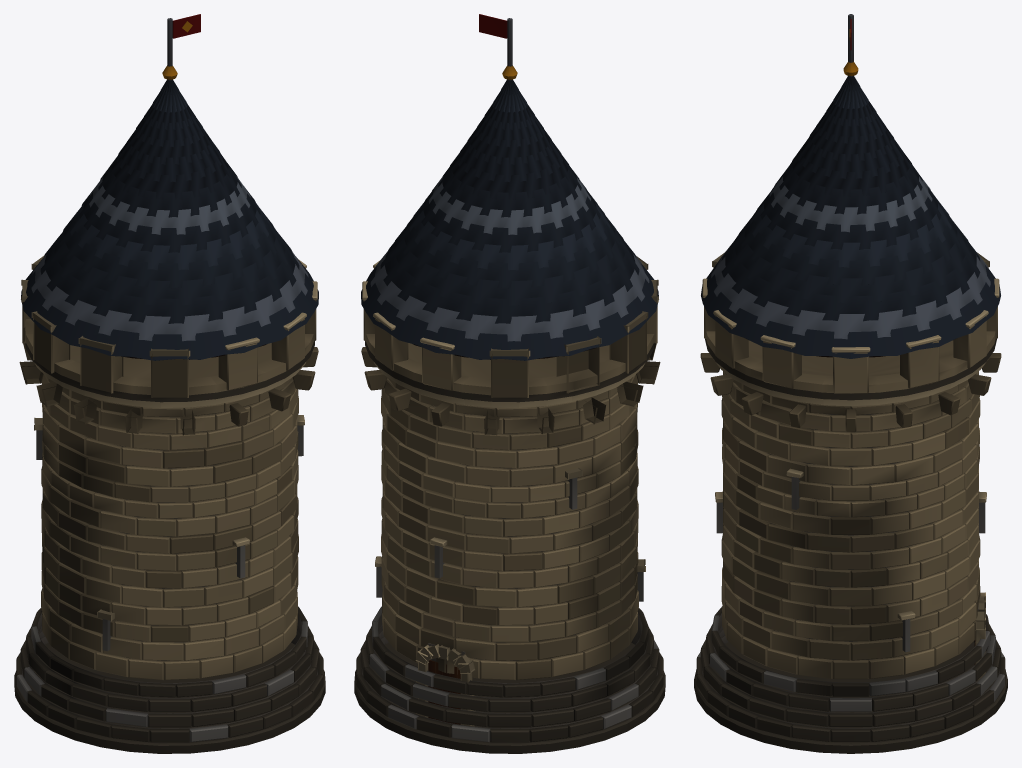
File: Torre4.fbx
The picture shows the model from 3 angles, left to right: view 1: azimuth 30°, elevation 25°; view 2: azimuth 150°, elevation 25°; view 3: azimuth 270°, elevation 25°; orthographic projection.
Parts seen in each view (by area): view 1: Torre4; view 2: Torre4; view 3: Torre4.
Part boxes in pixels (x1,y1,x2,y2): Torre4: (14,14,325,753); Torre4: (354,14,665,753); Torre4: (694,14,1007,753).
Bounding box in the file's own units: 8.8 × 20.83 × 8.8.
